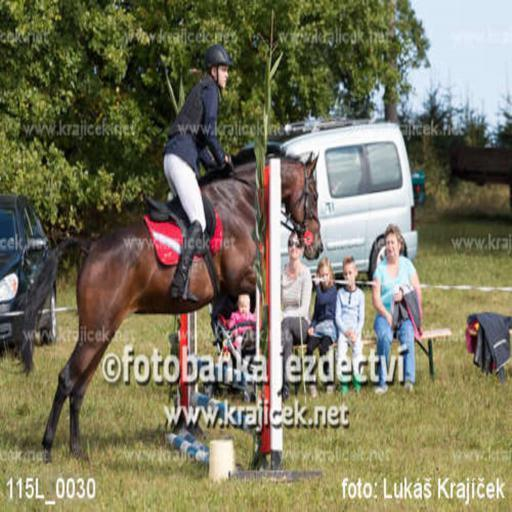horse: (10, 144, 325, 466)
